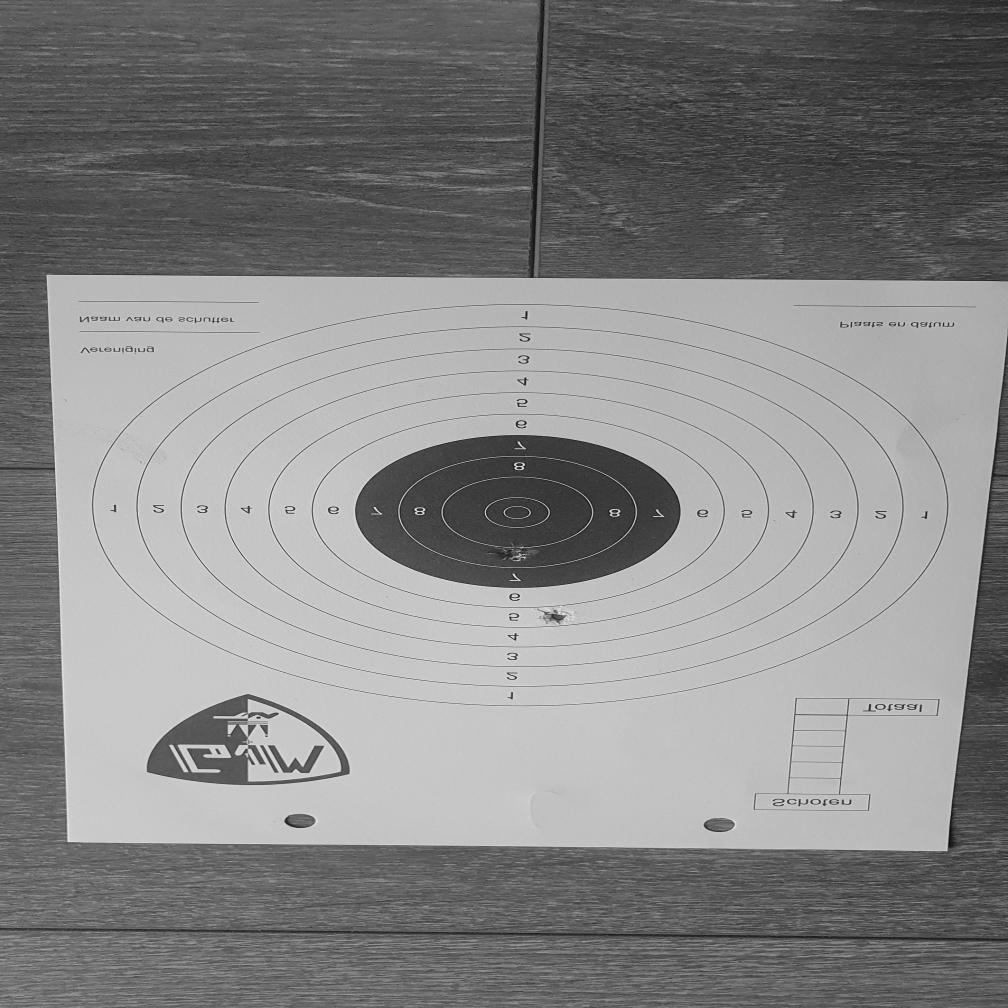5: (538, 608, 576, 626)
9: (494, 543, 532, 565)
Target: (90, 304, 953, 708)
black_contour: (355, 434, 681, 590)
